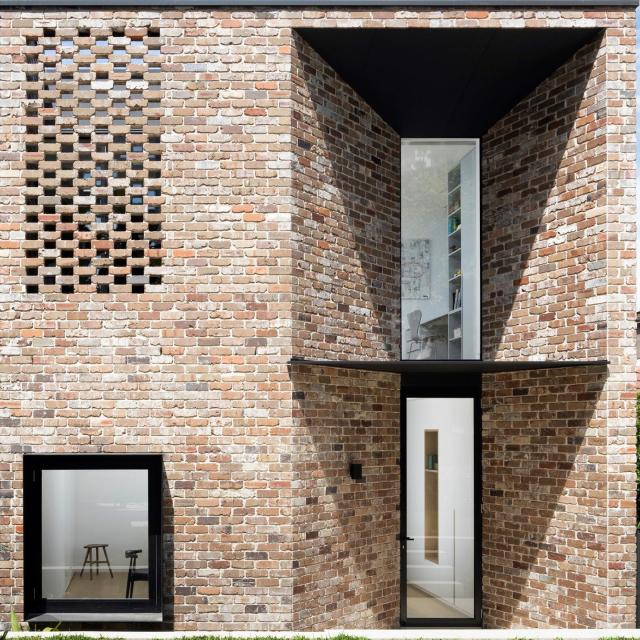door: (400, 378, 485, 630)
wall: (0, 1, 638, 636)
windows: (400, 136, 482, 362), (36, 466, 154, 604)
